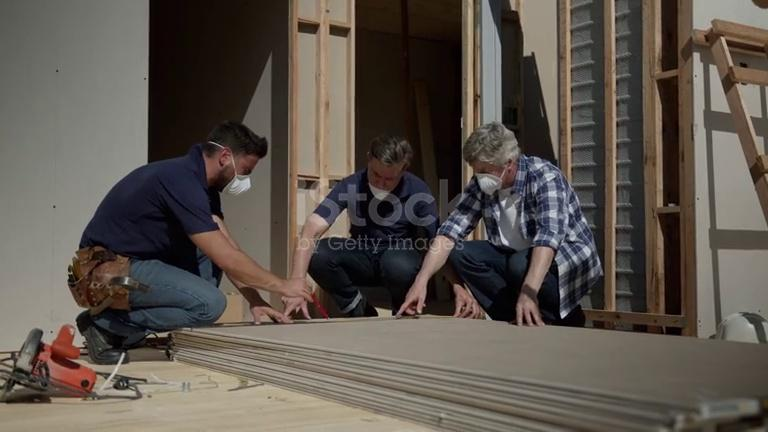mask: (216, 174, 251, 196), (475, 171, 505, 191)
person: (75, 119, 304, 365), (395, 121, 605, 328), (282, 136, 481, 324)
